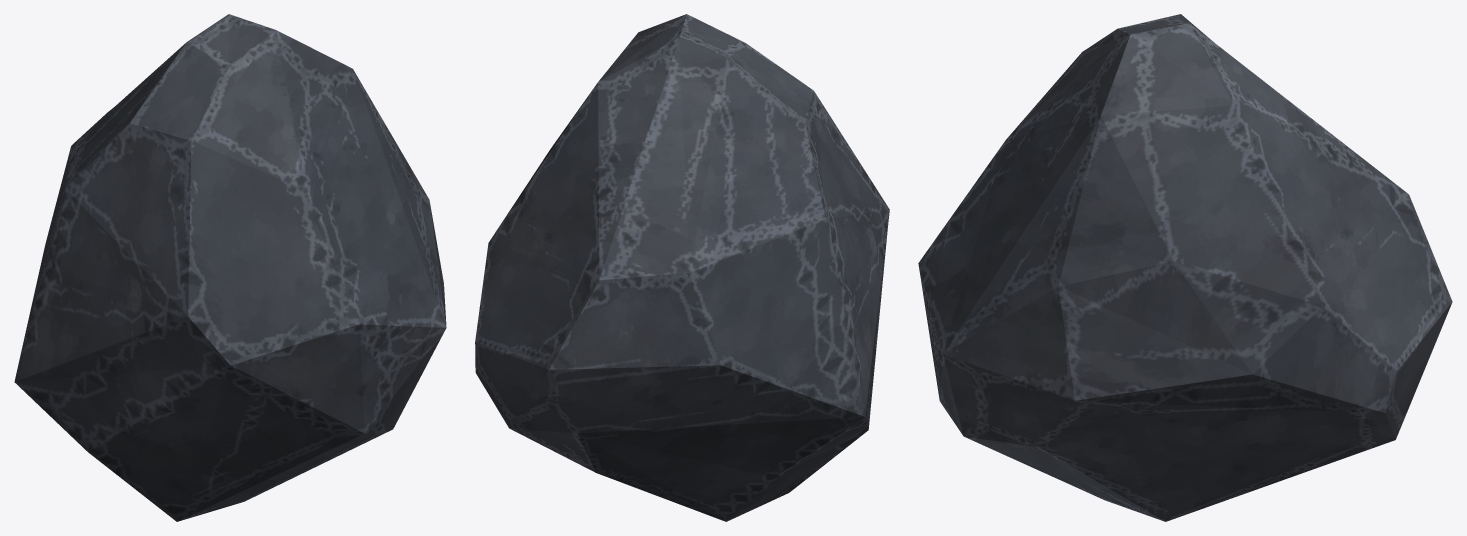
Rendered from rock_2.fbx.
3 renders of one model, left to right at view 1: azimuth 30°, elevation 25°; view 2: azimuth 150°, elevation 25°; view 3: azimuth 270°, elevation 25°, orthographic. The views are drawn at different scales.
Visible parts, largest first — view 1: rock 2 low; view 2: rock 2 low; view 3: rock 2 low.
Boxes of the visible parts, <box> form: rock 2 low: <box>14,14,446,521</box>; rock 2 low: <box>475,14,889,521</box>; rock 2 low: <box>918,14,1452,521</box>.
Bounding box in the file's own units: 72.21 × 89.65 × 85.01.
Materials: 1 (1 with a texture image).
